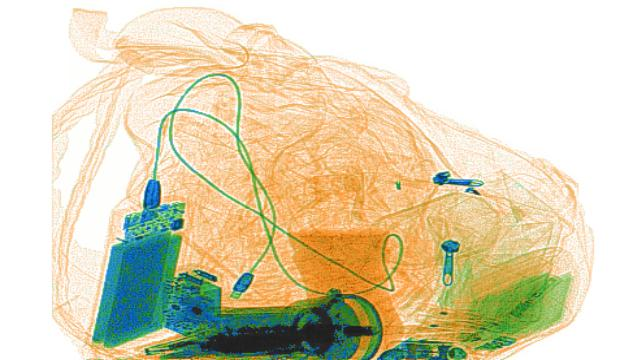battery: (207, 306, 305, 354)
